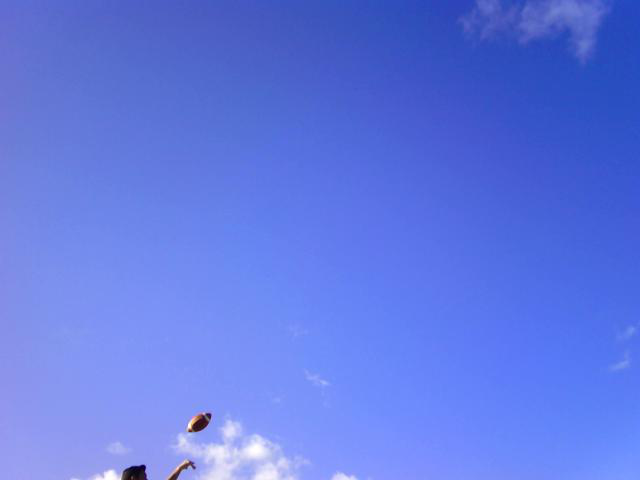football: (187, 409, 213, 435)
